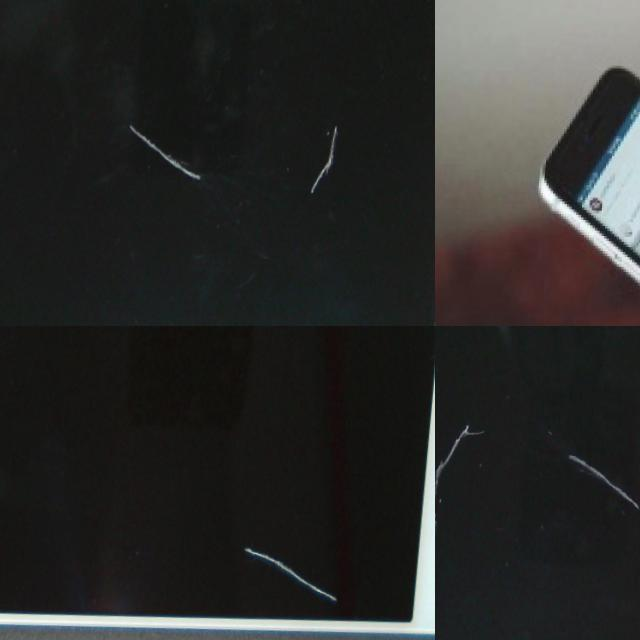scratch: (241, 524, 357, 606), (435, 423, 494, 549), (133, 123, 217, 180), (568, 445, 640, 510), (320, 120, 344, 193)
